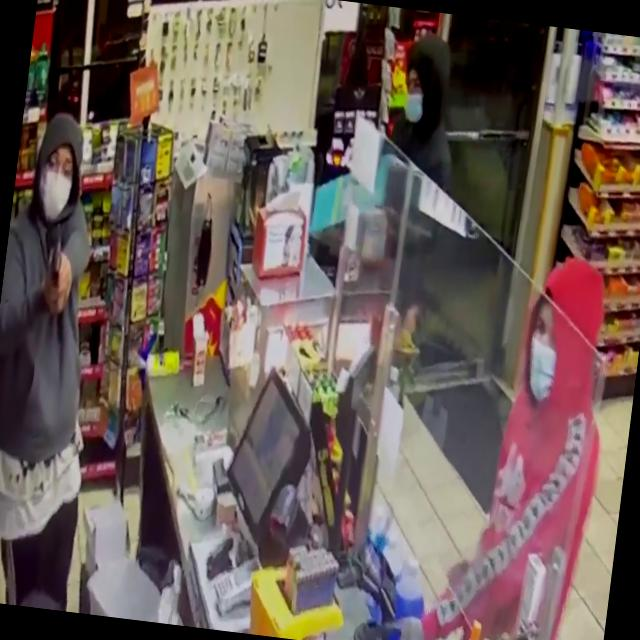handgun: (34, 234, 78, 312)
